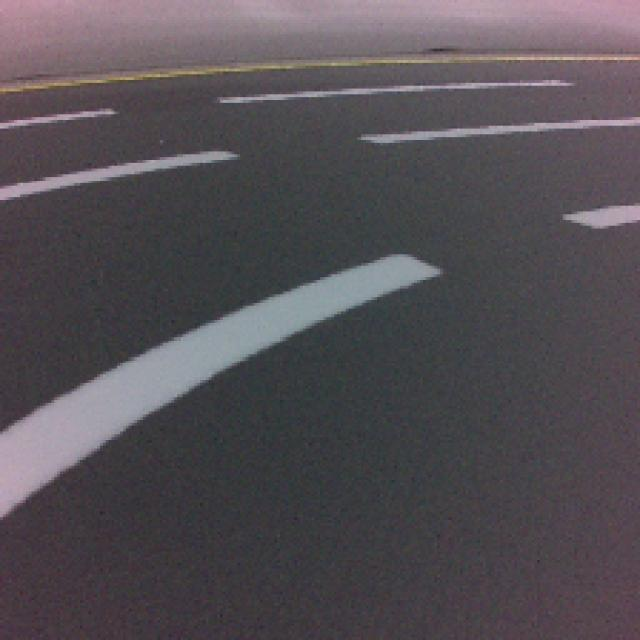Guard rail: (0, 252, 442, 523)
